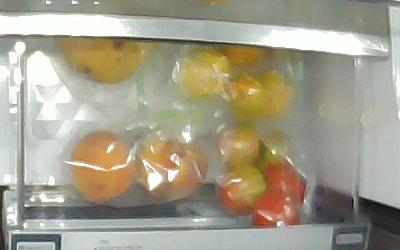peach_vinyl: (71, 131, 136, 202), (137, 139, 208, 201)
pear_vinyl: (55, 38, 150, 85)
tangerine_vinyl: (177, 50, 230, 98), (256, 67, 296, 115), (227, 75, 269, 118), (219, 45, 268, 65)
tomato_vinyl: (218, 165, 266, 215), (215, 125, 259, 171), (252, 191, 300, 228), (256, 129, 289, 175), (266, 164, 305, 202)
